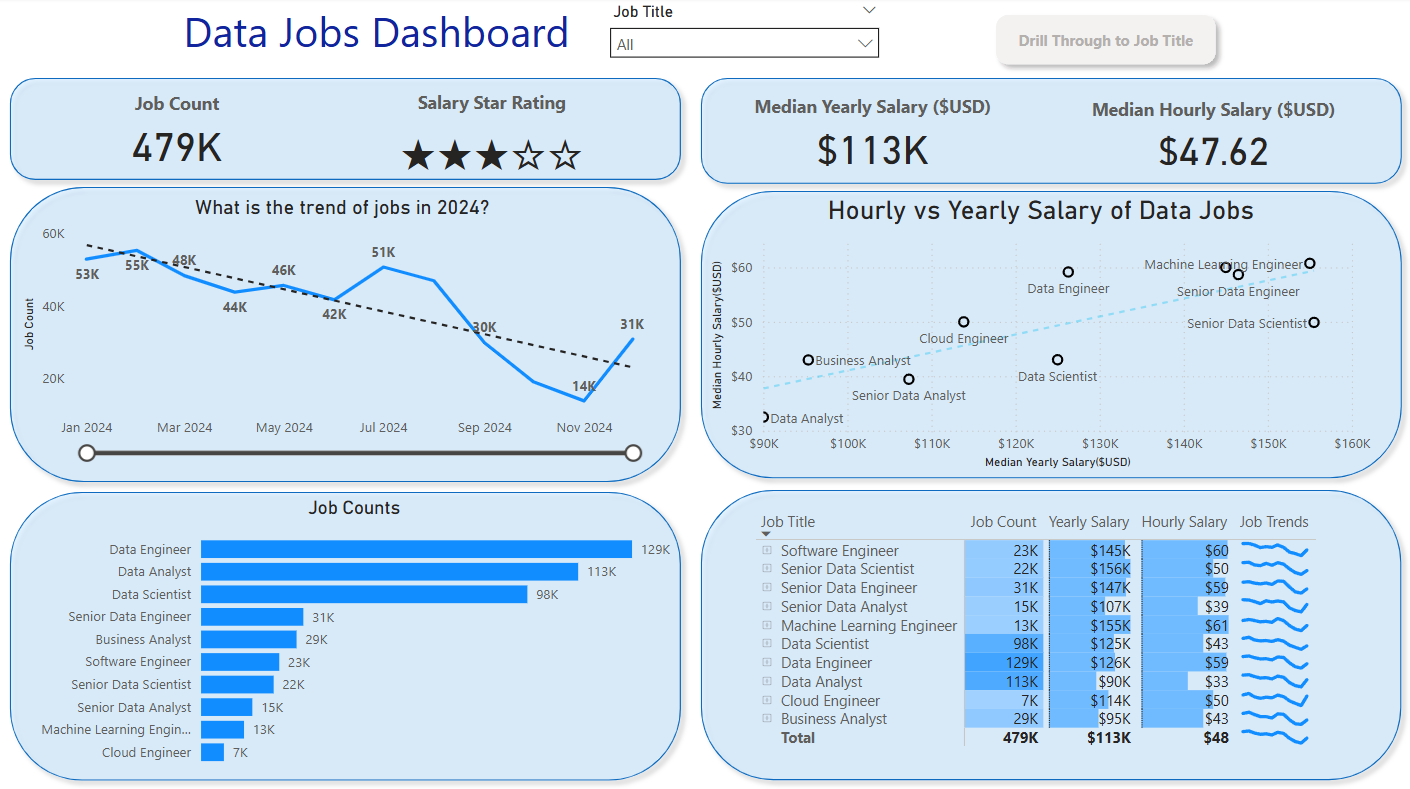

This screenshot's page, from the dashboard's own definition file:
{"tool":"powerbi","page":{"name":"Data_Jobs Dashboard","canvas":[1280,720],"ordinal":0},"visuals":[{"type":"group","id":"g1","title":"Background","box":[0,63.9,1280,655.2],"z":0},{"type":"textbox","box":[16.2,0,513.8,57.2],"z":1000},{"type":"slicer","fields":{"Values":["job_postings_flat.job_title_short"]},"box":[543.2,0,264.1,56.4],"z":2000},{"type":"cardVisual","fields":{"Data":["Median(job_postings_flat.salary_year_avg)"]},"box":[662.9,71.7,257.4,89.3],"z":3000},{"type":"cardVisual","fields":{"Data":["Median(job_postings_flat.salary_hour_avg)"]},"box":[969.7,74,262.1,83.5],"z":4000},{"type":"cardVisual","fields":{"Data":["job_postings_flat.Salary Star Rating"]},"box":[322.1,68.2,248,96.4],"z":5000},{"type":"cardVisual","fields":{"Data":["CountNonNull(job_postings_flat.job_title_short)"]},"box":[54.1,69.3,212.7,91.7],"z":6000},{"type":"lineChart","title":"What is the trend of jobs in 2024?","fields":{"Category":["job_postings_flat.job_posted_date.Variation.Date Hierarchy.Year","job_postings_flat.job_posted_date.Variation.Date Hierarchy.Quarter","job_postings_flat.job_posted_date.Variation.Date Hierarchy.Month","job_postings_flat.job_posted_date.Variation.Date Hierarchy.Day"],"Y":["CountNonNull(job_postings_flat.job_title_short)"]},"box":[16.1,179.4,588.6,244.9],"z":7000},{"type":"barChart","title":"Job Counts","fields":{"Y":["CountNonNull(job_postings_flat.job_title_short)"],"Category":["job_postings_flat.job_title_short"]},"box":[16.5,452.5,610,253.9],"z":8000},{"type":"scatterChart","title":"Hourly vs Yearly Salary of Data Jobs","fields":{"X":["Median(job_postings_flat.salary_year_avg)"],"Y":["Median(job_postings_flat.salary_hour_avg)"],"Series":["job_postings_flat.job_title_short"]},"box":[640.6,179.8,607.7,252.7],"z":9000},{"type":"shape","box":[0,63.9,626.5,110.5],"z":10000,"group":"g1"},{"type":"pivotTable","fields":{"Rows":["job_postings_flat.job_title_short","job_postings_flat.job_posted_date.Variation.Date Hierarchy.Quarter"],"Values":["CountNonNull(job_postings_flat.job_title_short)","Median(job_postings_flat.salary_year_avg)","Median(job_postings_flat.salary_hour_avg)","SparklineData(CountNonNull(job_postings_flat.job_title_short)_[job_postings_flat.job_posted_date.Variation.Date Hierarch"]},"box":[680.6,461.9,578.3,235.1],"z":10000},{"type":"actionButton","title":"Drill Through","box":[894.4,7,217.2,62.7],"z":11000},{"type":"shape","box":[626.5,63.9,653.5,114],"z":11000,"group":"g1"},{"type":"shape","box":[0,162.7,626.5,285.6],"z":12000,"group":"g1"},{"type":"shape","box":[626.5,166.2,653.5,278.6],"z":13000,"group":"g1"},{"type":"shape","box":[0,438.9,626.5,279.7],"z":14000,"group":"g1"},{"type":"shape","box":[626.9,437.9,653.1,281.2],"z":15000,"group":"g1"}]}

Visuals, with their boxes in screenshot pixels (x1, y1, x2, y2), scaled from the page's 1280x720 canvas onto the 1410x789 screenshot:
"Background" group: 0, 70, 1409, 788
textbox: 18, 0, 584, 63
slicer - job_postings_flat.job_title_short: 598, 0, 889, 62
cardVisual - Median(job_postings_flat.salary_year_avg): 730, 79, 1014, 176
cardVisual - Median(job_postings_flat.salary_hour_avg): 1068, 81, 1357, 173
cardVisual - job_postings_flat.Salary Star Rating: 355, 75, 628, 180
cardVisual - CountNonNull(job_postings_flat.job_title_short): 60, 76, 294, 176
"What is the trend of jobs in 2024?" lineChart: 18, 197, 666, 465
"Job Counts" barChart: 18, 496, 690, 774
"Hourly vs Yearly Salary of Data Jobs" scatterChart: 706, 197, 1375, 474
shape: 0, 70, 690, 191
pivotTable - job_postings_flat.job_title_short x job_postings_flat.job_posted_date.Variation.Date Hierarchy.Quarter: 750, 506, 1387, 764
"Drill Through" actionButton: 985, 8, 1224, 76
shape: 690, 70, 1409, 195
shape: 0, 178, 690, 491
shape: 690, 182, 1409, 487
shape: 0, 481, 690, 787
shape: 691, 480, 1409, 788
